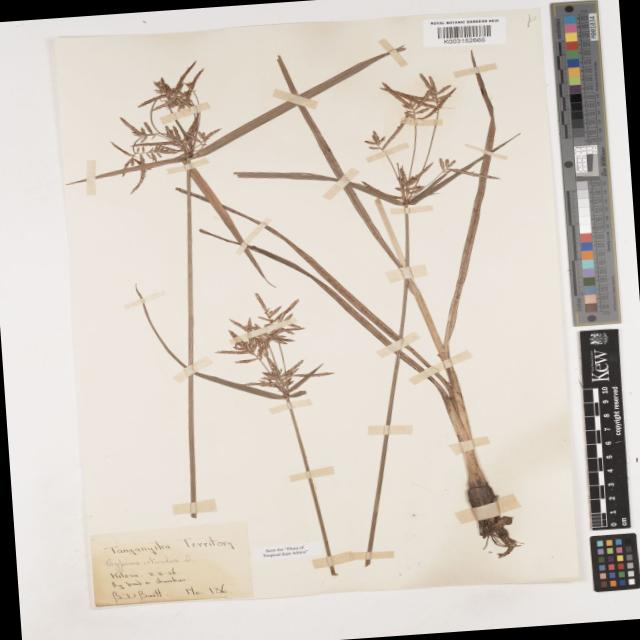cyperus: (210, 282, 324, 410), (113, 66, 229, 182), (356, 153, 470, 216), (374, 70, 462, 132), (364, 125, 391, 155)
